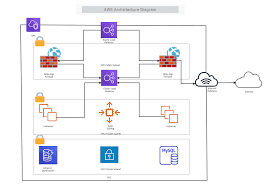auto scaling: (98, 101, 122, 124)
dynamodb: (39, 147, 57, 163)
ec2: (159, 103, 179, 123), (38, 104, 58, 124)
elb: (102, 70, 117, 85), (101, 23, 116, 37)
rds: (158, 144, 179, 166)
vpc: (26, 18, 39, 31)
